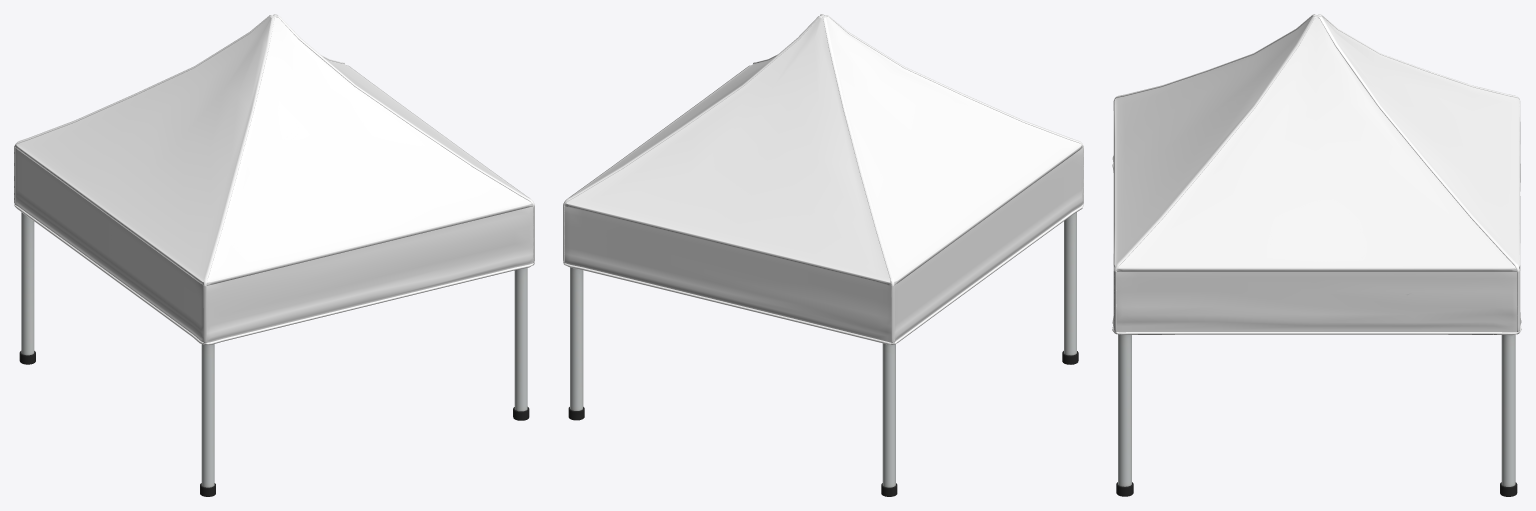
File: tent-6.5x6.5.glb
3 renders of one model, left to right at view 1: azimuth 30°, elevation 25°; view 2: azimuth 150°, elevation 25°; view 3: azimuth 270°, elevation 25°, orthographic. The views are drawn at different scales.
Visible parts, largest first — view 1: fabric, leg; view 2: fabric, leg; view 3: fabric, leg.
Part boxes in pixels (x1,y1,x2,y2): fabric: [14, 14, 534, 344]; leg: [19, 212, 529, 496]; fabric: [563, 14, 1083, 344]; leg: [568, 212, 1078, 496]; fabric: [1112, 14, 1521, 335]; leg: [1116, 334, 1517, 496].
Bounding box in the file's own units: 1.98 × 2.12 × 1.98.
Materials: 3 (1 with a texture image).
